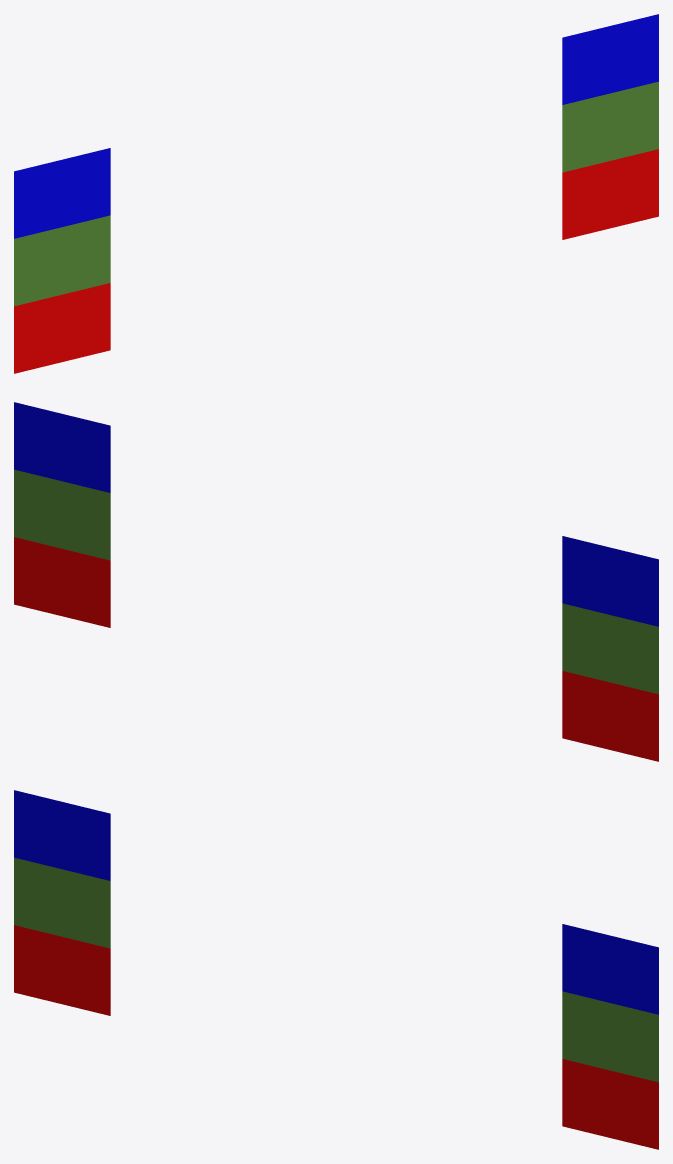
The model's file is startZone.dae.
3 renders of one model, top to bottom at view 1: azimuth 30°, elevation 25°; view 2: azimuth 150°, elevation 25°; view 3: azimuth 330°, elevation 25°, orthographic.
Visible parts, largest first — view 1: 5cb99814505c701592c02f5d (×6); view 2: 5cb99814505c701592c02f5d (×6); view 3: 5cb99814505c701592c02f5d (×6).
Part boxes in pixels (x1=…): 5cb99814505c701592c02f5d (×6): x1=14, y1=14, x2=658, y2=373; 5cb99814505c701592c02f5d (×6): x1=14, y1=402, x2=658, y2=761; 5cb99814505c701592c02f5d (×6): x1=14, y1=790, x2=658, y2=1149.
Bounding box in the file's own units: 3 × 0.0001 × 0.9.
